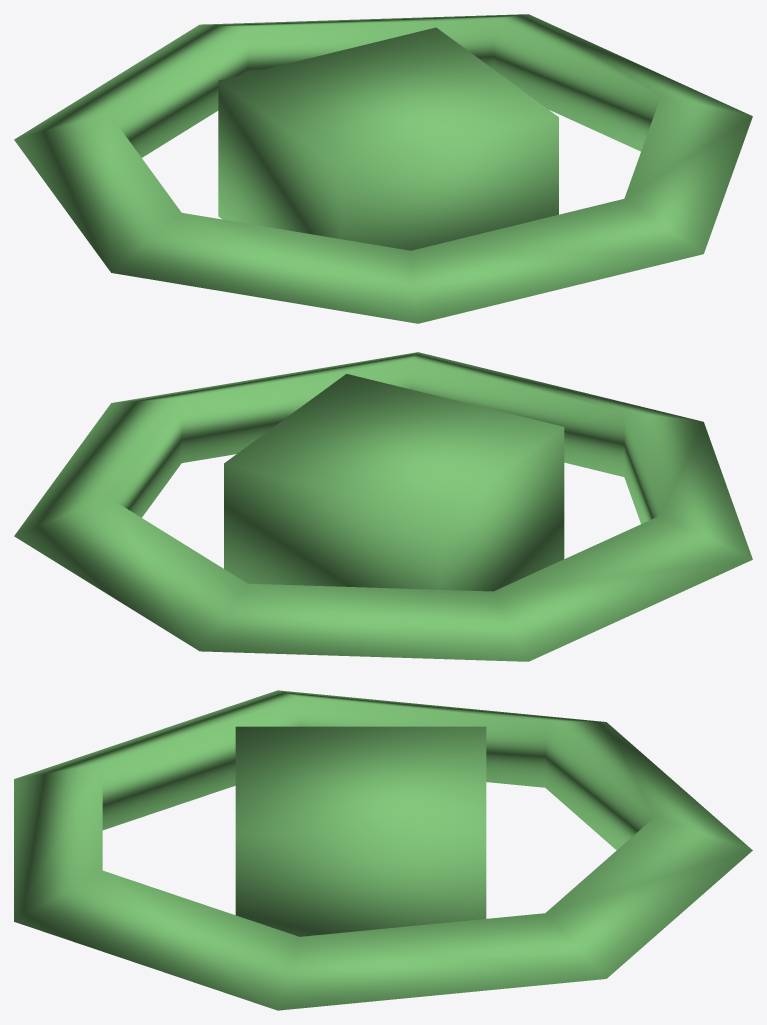
The model's file is trigger_3db.gltf.
3 renders of one model, top to bottom at view 1: azimuth 30°, elevation 25°; view 2: azimuth 150°, elevation 25°; view 3: azimuth 270°, elevation 25°, orthographic. The views are drawn at different scales.
Visible parts, largest first — view 1: trigger.3db; view 2: trigger.3db; view 3: trigger.3db.
Boxes of the visible parts, <box> form: trigger.3db: <box>14,14,752,323</box>; trigger.3db: <box>14,352,752,661</box>; trigger.3db: <box>14,690,752,1010</box>.
Bounding box in the file's own units: 7.56 × 1.53 × 7.37.
